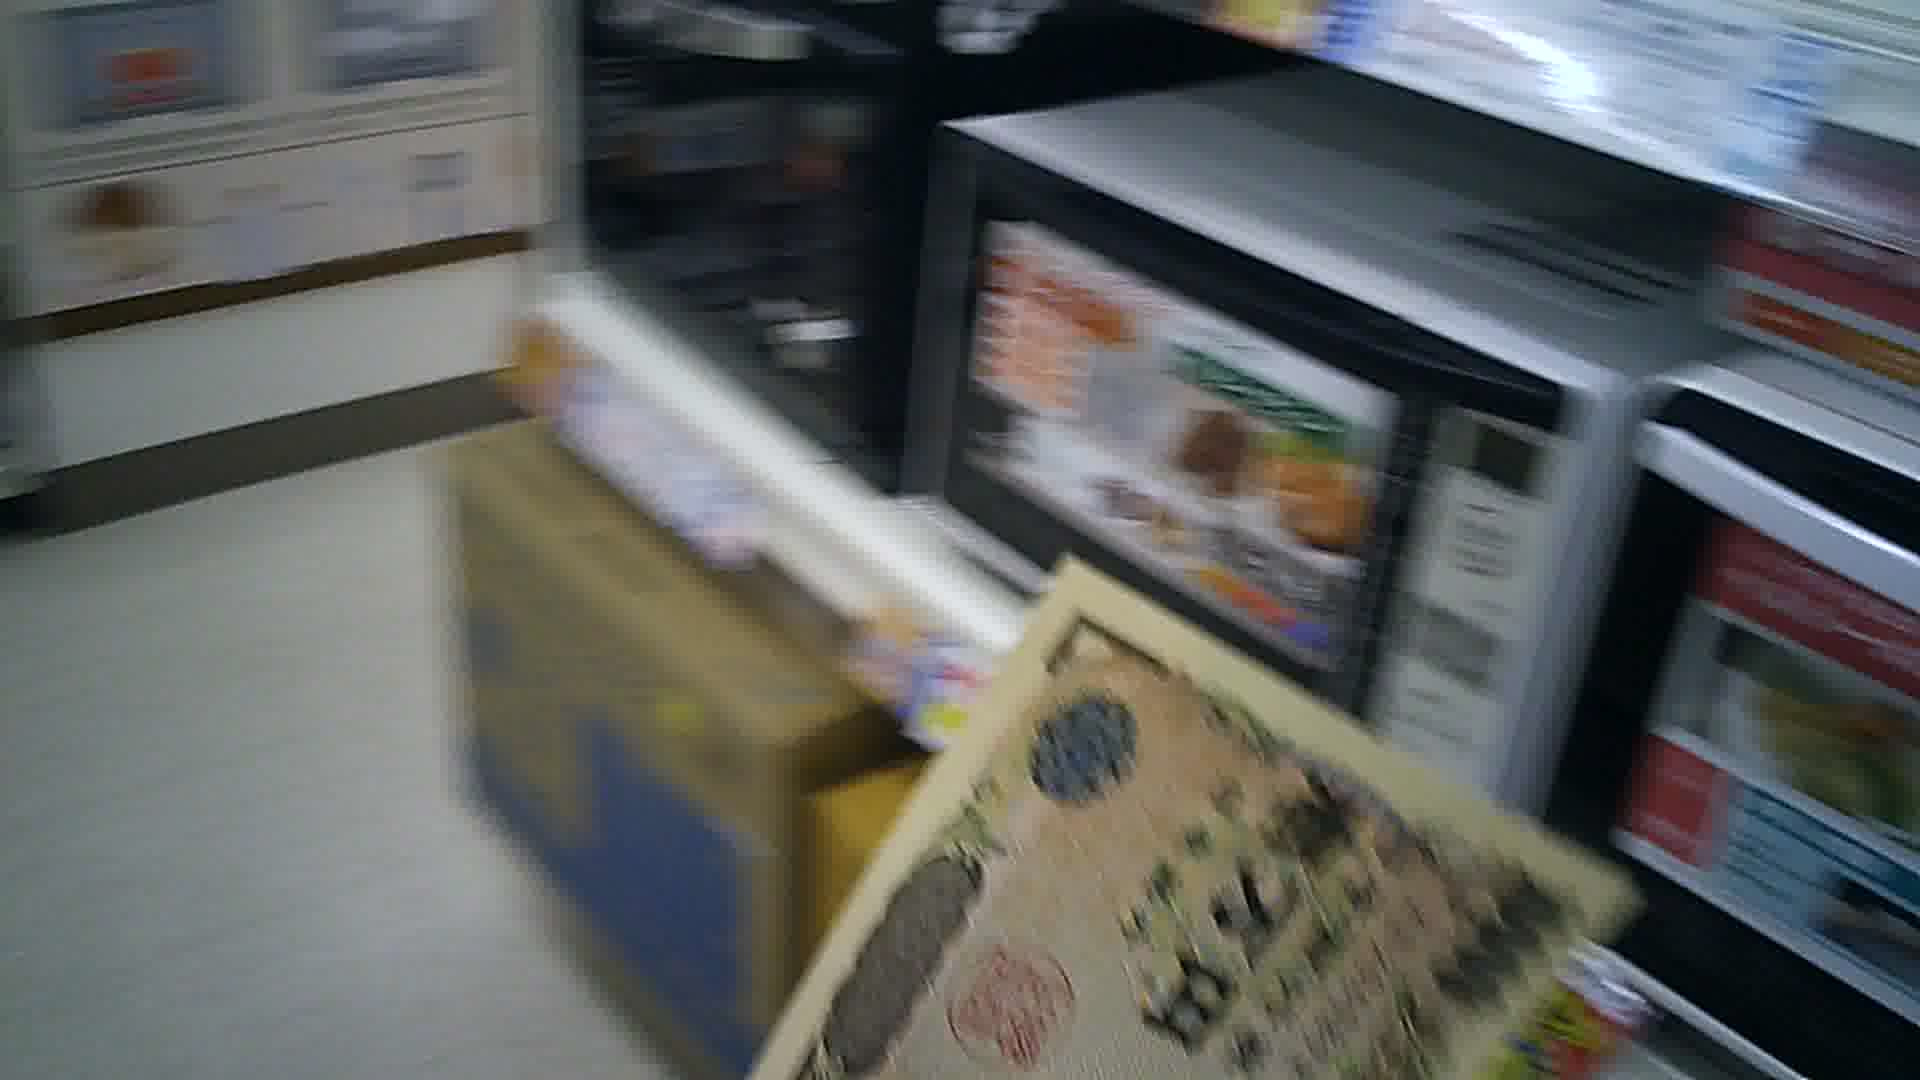10,000 Yen: (790, 571, 1602, 1077)
